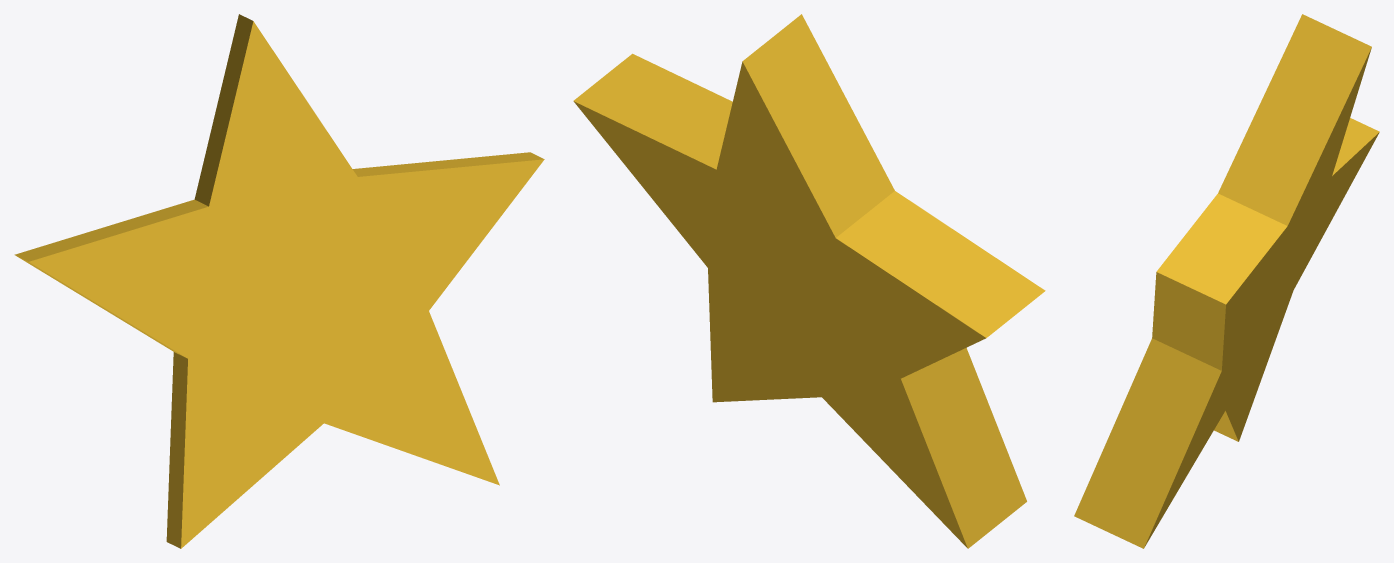
The model's file is party_trait_badge_gold.glb.
3 views of the same model, side by side, from view 1: azimuth 30°, elevation 25°; view 2: azimuth 150°, elevation 25°; view 3: azimuth 270°, elevation 25° (orthographic). The views are drawn at different scales.
Parts seen in each view (by area): view 1: badge_trait_badge_gold; view 2: badge_trait_badge_gold; view 3: badge_trait_badge_gold.
Part boxes in pixels (left/top/right/bottom): badge_trait_badge_gold: left=14, top=14, right=544, bottom=548; badge_trait_badge_gold: left=573, top=14, right=1045, bottom=548; badge_trait_badge_gold: left=1074, top=14, right=1379, bottom=548.
Size of the model in its own units: 0.1422 by 0.1385 by 0.0787.
